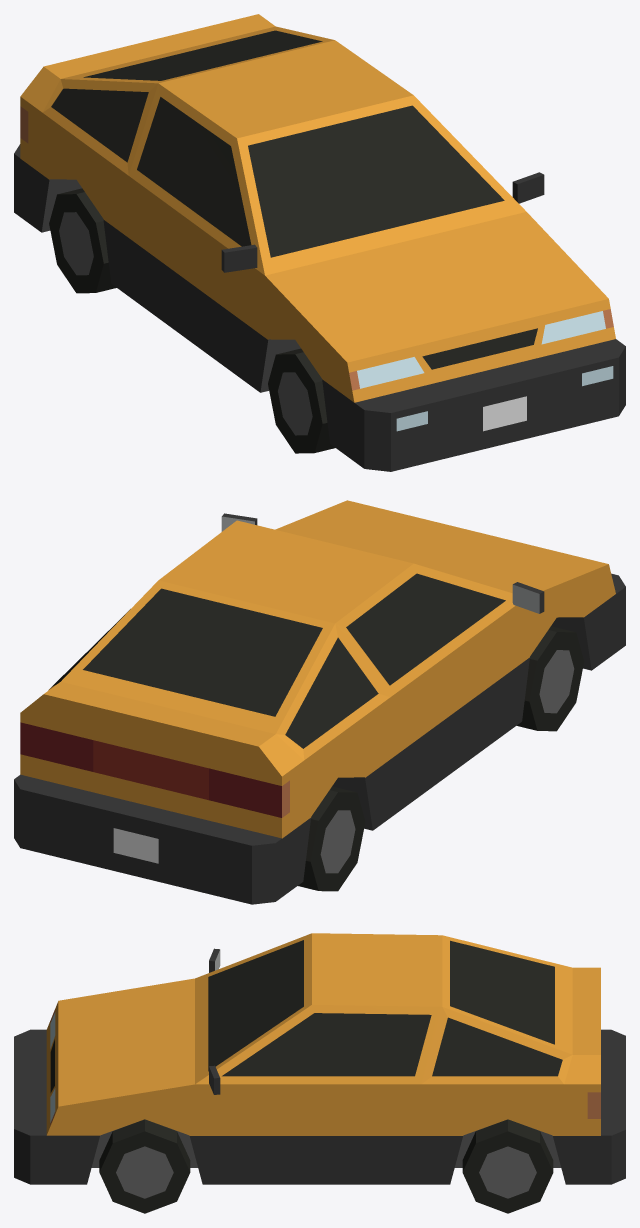
Rendered from Veh_Coupe_01_Yellow.glb.
The picture shows the model from 3 angles, top to bottom: view 1: azimuth 30°, elevation 25°; view 2: azimuth 150°, elevation 25°; view 3: azimuth 270°, elevation 25°; orthographic projection. The views are drawn at different scales.
Parts seen in each view (by area): view 1: Coupe_01_Yellow, Wheel_FR, Wheel_RR; view 2: Coupe_01_Yellow, Wheel_RR, Wheel_FR; view 3: Coupe_01_Yellow, Wheel_RL, Wheel_FL.
Boxes of the visible parts, box(x1,y1,x2,y2) form: Coupe_01_Yellow: box(14, 14, 625, 471); Wheel_FR: box(268, 348, 334, 453); Wheel_RR: box(49, 188, 116, 293); Coupe_01_Yellow: box(14, 500, 625, 904); Wheel_RR: box(298, 786, 365, 891); Wheel_FR: box(516, 626, 584, 731); Coupe_01_Yellow: box(14, 933, 625, 1184); Wheel_RL: box(462, 1119, 553, 1213); Wheel_FL: box(99, 1119, 190, 1213).
Size of the model in its own units: 1.18 by 0.8117 by 2.35.
Materials: 1 (1 with a texture image).
